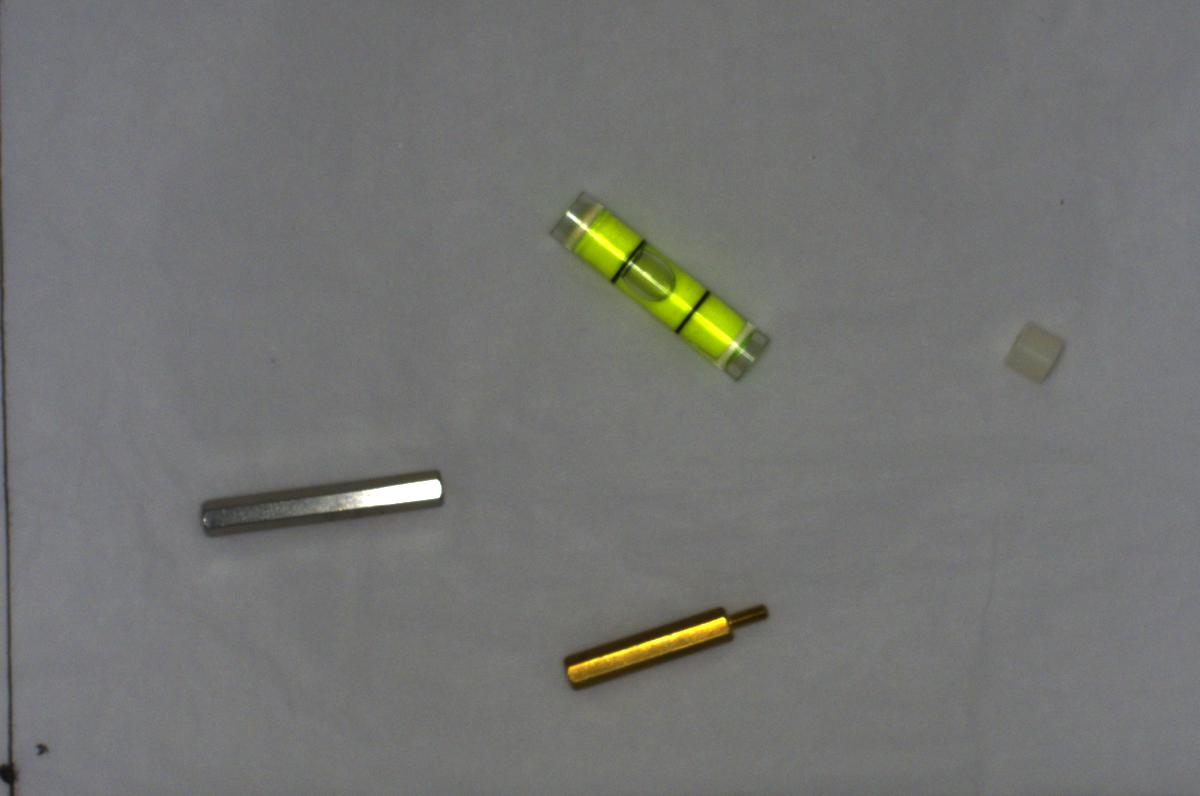Hexagon pillar: (532, 589, 785, 700)
Hexagonal steel column: (182, 458, 458, 550)
Horizontal bubble: (542, 180, 782, 390)
Plastic cushion pillar: (993, 309, 1077, 389)
